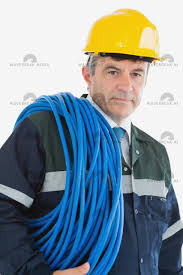Person_wearing_helmet: (71, 5, 156, 85)
